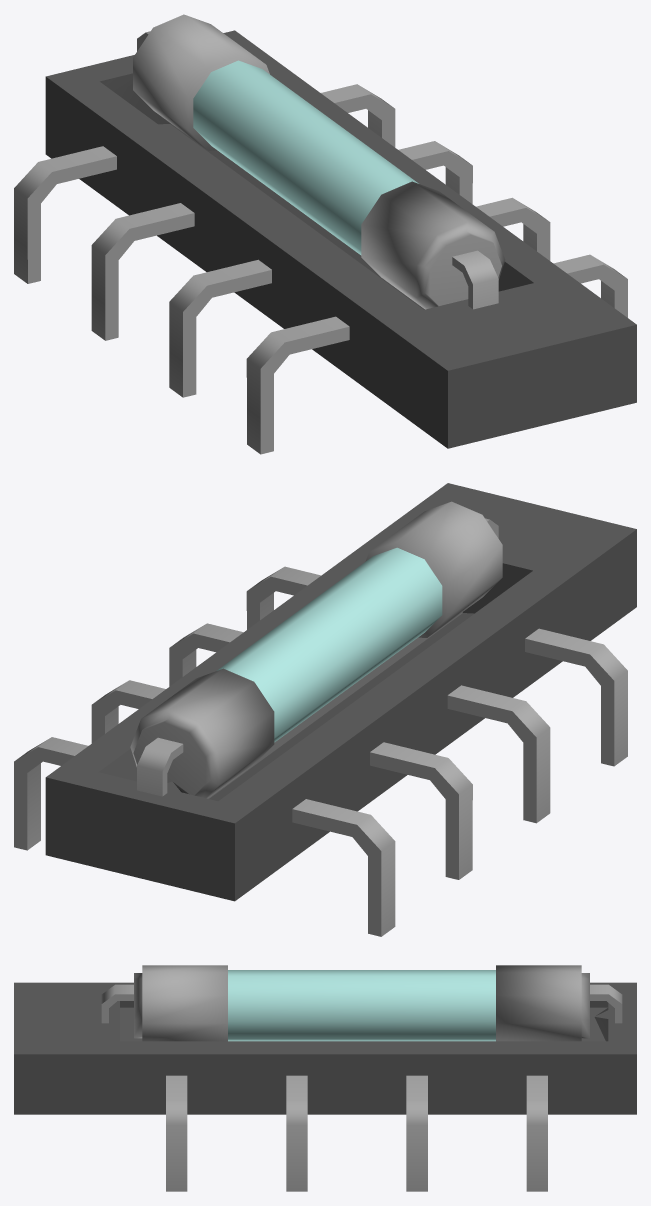
Rendered from fusible.fbx.
The picture shows the model from 3 angles, top to bottom: view 1: azimuth 30°, elevation 25°; view 2: azimuth 150°, elevation 25°; view 3: azimuth 270°, elevation 25°; orthographic projection. The views are drawn at different scales.
Visible parts, largest first — view 1: fusible_base, fusible_bord, fusible, fusible9, fusible10, fusible11, fusible8, fusible6, fusible2, fusible5, fusible7, fusible3; view 2: fusible_base, fusible_bord, fusible, fusible10, fusible8, fusible9, fusible11, fusible2, fusible5, fusible6, fusible7, fusible4; view 3: fusible_base, fusible, fusible_bord, fusible5, fusible6, fusible2, fusible7, fusible3, fusible4.
Part boxes in pixels (x1=…): fusible_base: x1=45, y1=30, x2=636, y2=448; fusible_bord: x1=133, y1=14, x2=505, y2=309; fusible: x1=193, y1=60, x2=418, y2=255; fusible9: x1=91, y1=203, x2=194, y2=340; fusible10: x1=169, y1=259, x2=271, y2=397; fusible11: x1=246, y1=316, x2=349, y2=454; fusible8: x1=14, y1=146, x2=116, y2=283; fusible6: x1=476, y1=197, x2=550, y2=260; fusible2: x1=321, y1=84, x2=395, y2=147; fusible5: x1=398, y1=141, x2=472, y2=203; fusible7: x1=553, y1=254, x2=627, y2=317; fusible3: x1=452, y1=250, x2=498, y2=309; fusible_base: x1=45, y1=483, x2=636, y2=901; fusible_bord: x1=130, y1=501, x2=502, y2=798; fusible: x1=217, y1=547, x2=442, y2=742; fusible10: x1=447, y1=685, x2=550, y2=823; fusible8: x1=292, y1=799, x2=395, y2=936; fusible9: x1=370, y1=742, x2=472, y2=879; fusible11: x1=525, y1=628, x2=627, y2=766; fusible2: x1=14, y1=737, x2=87, y2=850; fusible5: x1=91, y1=680, x2=165, y2=743; fusible6: x1=169, y1=623, x2=243, y2=686; fusible7: x1=246, y1=566, x2=320, y2=629; fusible4: x1=137, y1=737, x2=183, y2=796; fusible_base: x1=14, y1=982, x2=636, y2=1114; fusible: x1=228, y1=970, x2=495, y2=1041; fusible_bord: x1=134, y1=965, x2=589, y2=1041; fusible5: x1=406, y1=1075, x2=427, y2=1191; fusible6: x1=286, y1=1075, x2=307, y2=1191; fusible2: x1=526, y1=1075, x2=547, y2=1191; fusible7: x1=166, y1=1075, x2=187, y2=1191; fusible3: x1=101, y1=984, x2=133, y2=1023; fusible4: x1=590, y1=984, x2=622, y2=1023.
Size of the model in its own units: 14.34 by 7.35 by 27.18.
